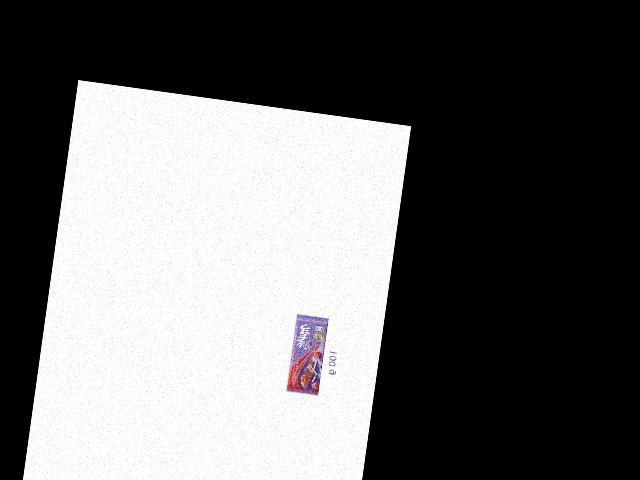chocolate: (286, 314, 332, 396)
